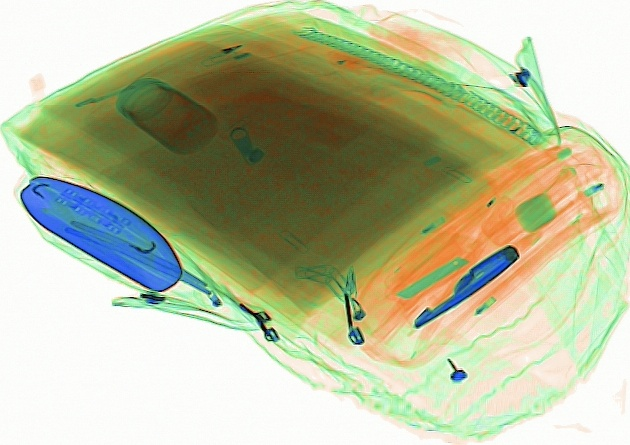knife: (392, 256, 470, 299)
